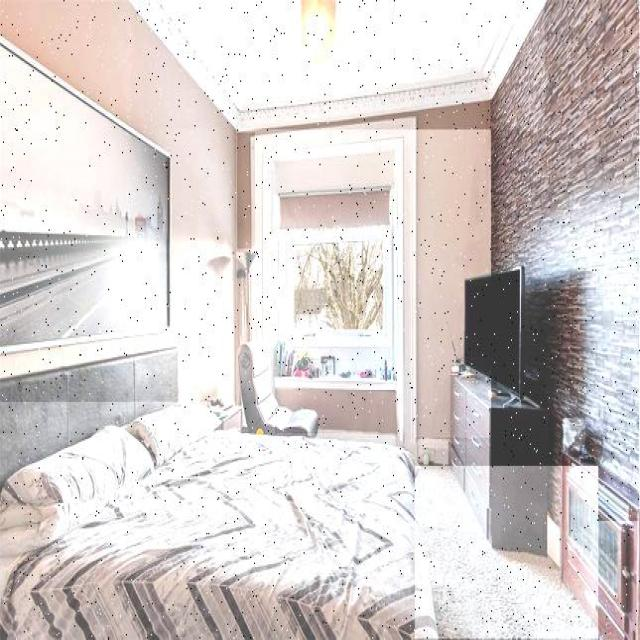Wall: (0, 0, 236, 402), (491, 0, 640, 521), (132, 0, 545, 129), (415, 466, 598, 639), (414, 101, 491, 438), (416, 101, 490, 438), (275, 390, 396, 433), (238, 133, 255, 249)
